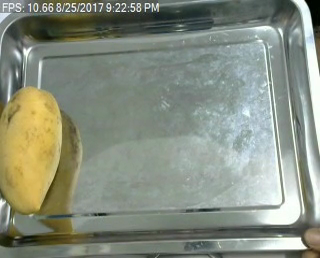Mango: (0, 85, 63, 216)
